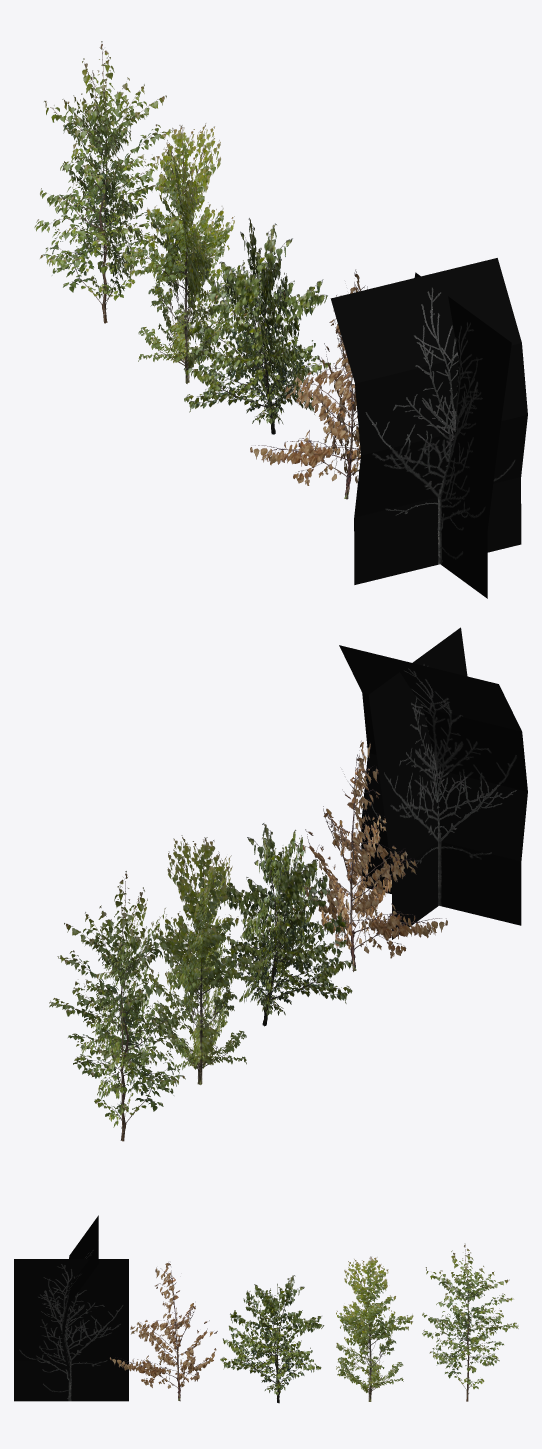
Rendered from Extra lowpoly tree set.fbx.
3 renders of one model, top to bottom at view 1: azimuth 30°, elevation 25°; view 2: azimuth 150°, elevation 25°; view 3: azimuth 270°, elevation 25°, orthographic. The views are drawn at different scales.
Visible parts, largest first — view 1: Branches 2, Branches 1, Branches 3, branches 4, branches 5; view 2: Branches 2, Branches 3, Branches 1, branches 4, branches 5; view 3: Branches 2, Branches 1, branches 4, Branches 3, branches 5.
Part boxes in pixels (<box>): Branches 2: <box>330,258,527,598</box>; Branches 1: <box>183,218,330,434</box>; Branches 3: <box>34,41,182,323</box>; branches 4: <box>122,123,235,383</box>; branches 5: <box>250,269,367,499</box>; Branches 2: <box>339,627,527,939</box>; Branches 3: <box>49,871,190,1141</box>; Branches 1: <box>215,823,352,1026</box>; branches 4: <box>153,835,261,1084</box>; branches 5: <box>295,740,447,971</box>; Branches 2: <box>14,1215,128,1401</box>; Branches 1: <box>220,1275,324,1403</box>; branches 4: <box>336,1256,413,1401</box>; Branches 3: <box>422,1243,518,1401</box>; branches 5: <box>109,1262,217,1401</box>.
Size of the model in its own units: 387 by 473 by 1195.
Materials: 5 (5 with a texture image).
